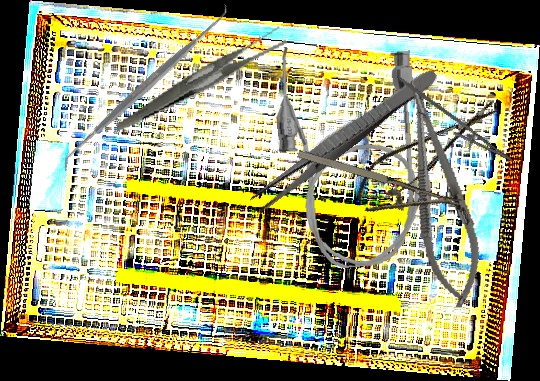Cannula: (270, 36, 429, 273)
Dressing Forceps: (245, 61, 441, 217), (103, 25, 298, 132)
Micro Scissor: (345, 91, 510, 213)
Needle Holder: (389, 74, 492, 312), (287, 144, 463, 240), (384, 76, 522, 172)
Spatula Surgical: (51, 1, 239, 174)
